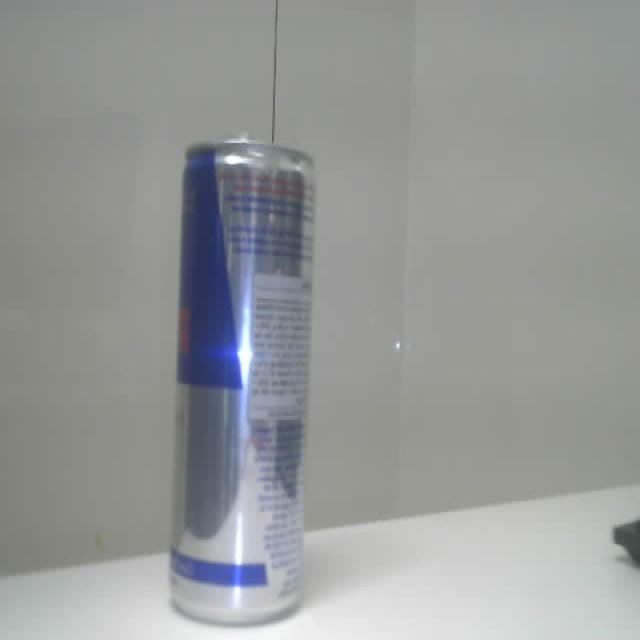redbull can: (171, 140, 313, 623)
